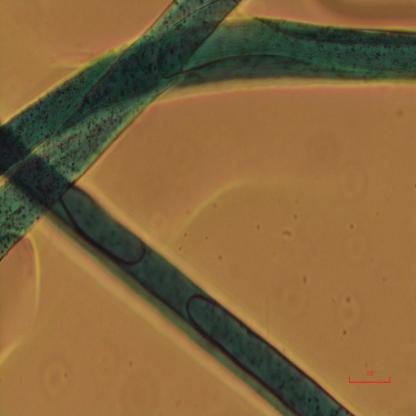Background material: (33, 347, 81, 396)
Microfibre: (51, 182, 354, 415), (0, 18, 416, 174), (0, 0, 241, 262)
